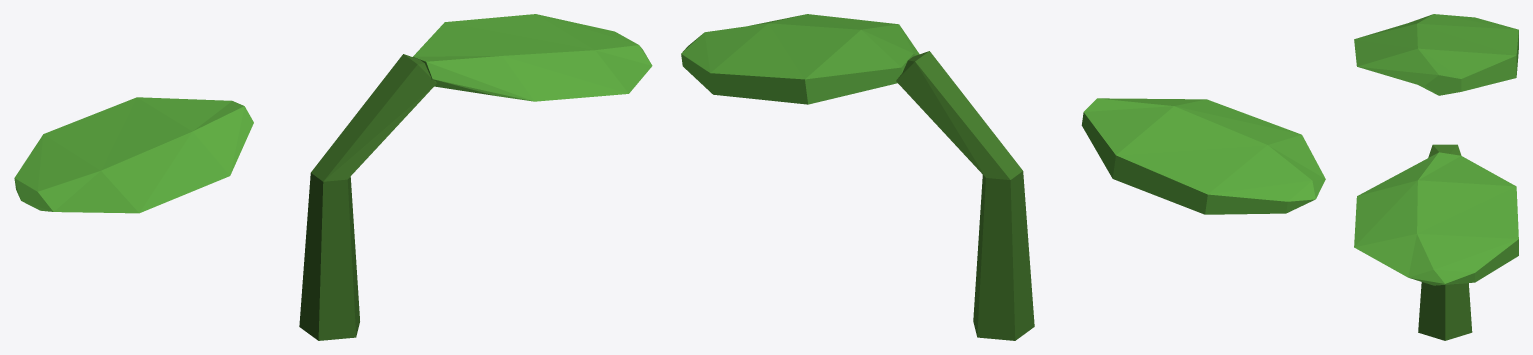
The model's file is greenbean_0.gltf.
3 renders of one model, left to right at view 1: azimuth 30°, elevation 25°; view 2: azimuth 150°, elevation 25°; view 3: azimuth 270°, elevation 25°, orthographic. The views are drawn at different scales.
Visible parts, largest first — view 1: greenbean_0; view 2: greenbean_0; view 3: greenbean_0.
Part boxes in pixels (x1=…): greenbean_0: x1=14, y1=14, x2=652, y2=340; greenbean_0: x1=681, y1=14, x2=1325, y2=340; greenbean_0: x1=1354, y1=14, x2=1518, y2=340.
Bounding box in the file's own units: 0.3952 × 0.1519 × 0.1042.
